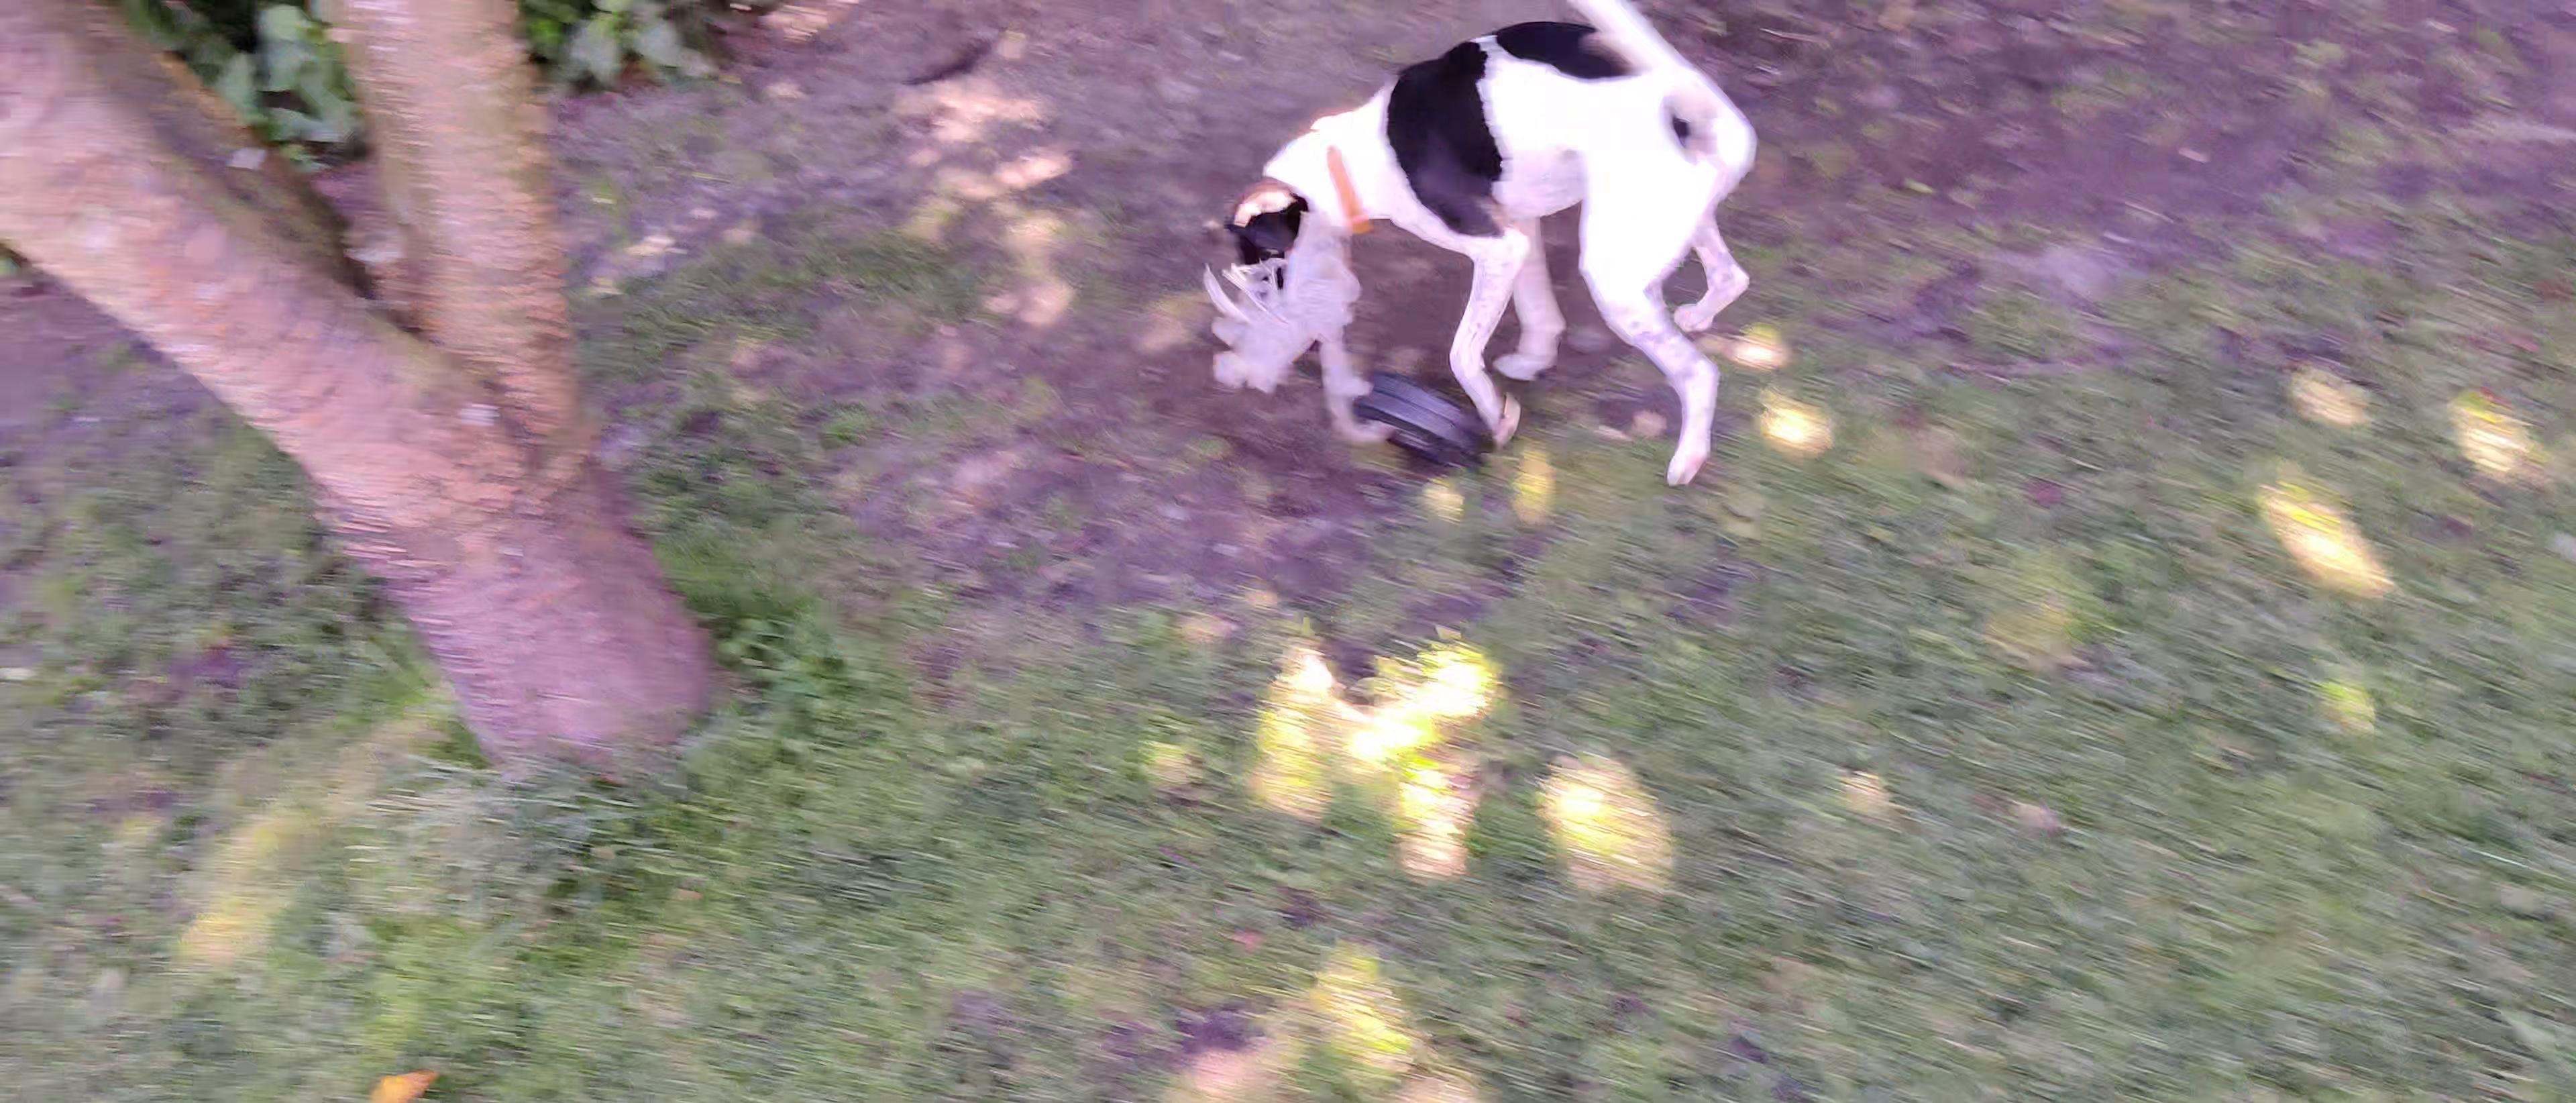Dog: (1209, 0, 1810, 529)
